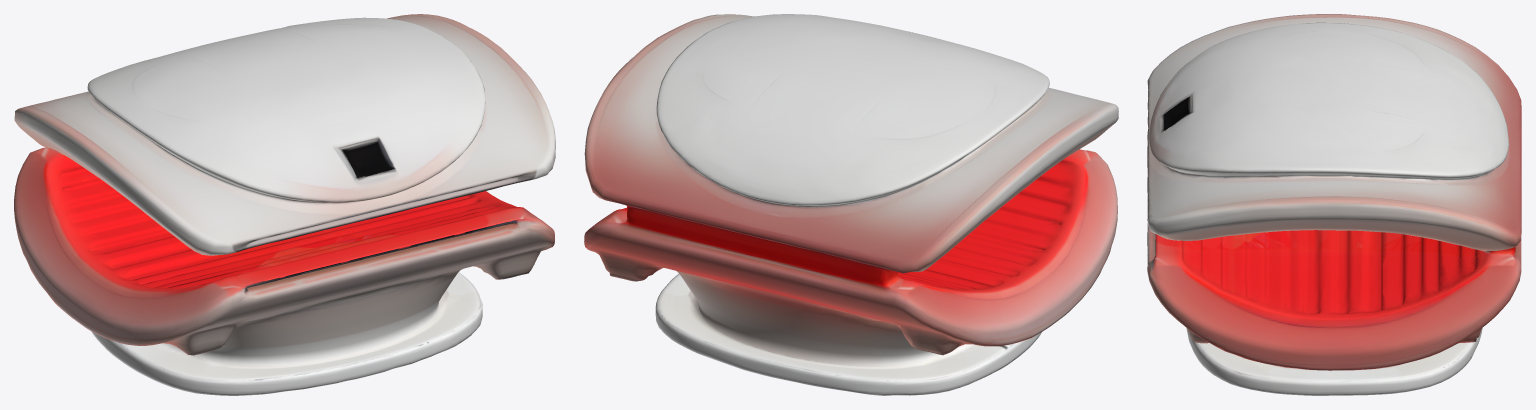
The model's file is ubody-collagen.glb.
3 views of the same model, side by side, from view 1: azimuth 30°, elevation 25°; view 2: azimuth 150°, elevation 25°; view 3: azimuth 270°, elevation 25° (orthographic). The views are drawn at different scales.
Visible parts, largest first — view 1: model; view 2: model; view 3: model.
Boxes of the visible parts, bbox=[...] form: model: bbox=[14, 14, 555, 395]; model: bbox=[584, 14, 1118, 395]; model: bbox=[1147, 14, 1521, 395].
Bounding box in the file's own units: 1.91 × 1.12 × 1.6.
Materials: 1 (1 with a texture image).
